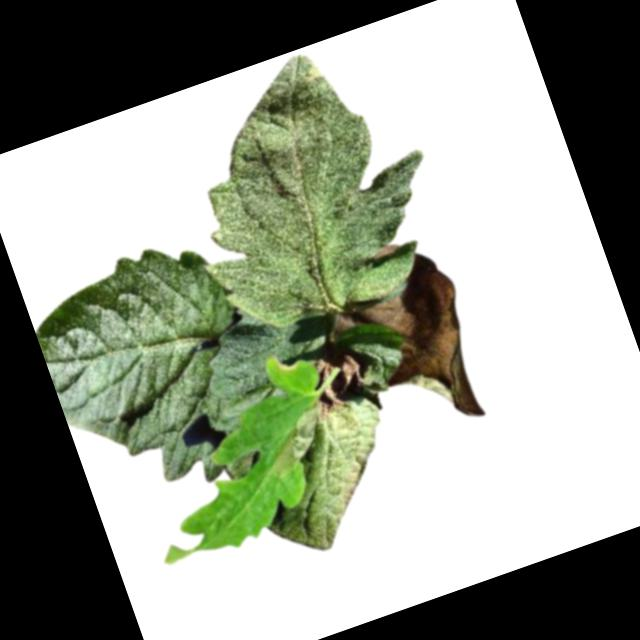Late_blight: (311, 242, 499, 457), (258, 402, 336, 478), (303, 353, 355, 419), (368, 240, 405, 264)
healthy: (151, 26, 462, 348), (22, 228, 285, 518)
